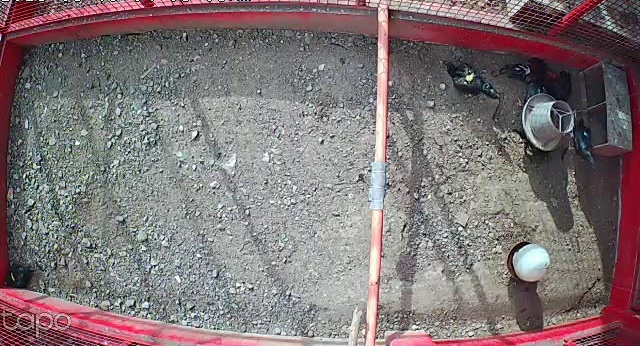Chicken: (435, 56, 506, 105), (560, 115, 597, 173), (2, 255, 38, 290)
Rooster: (494, 55, 561, 85)
Saddle_Color_Blue: (583, 132, 591, 137)
Saddle_Color_Yellow: (464, 70, 477, 82)
